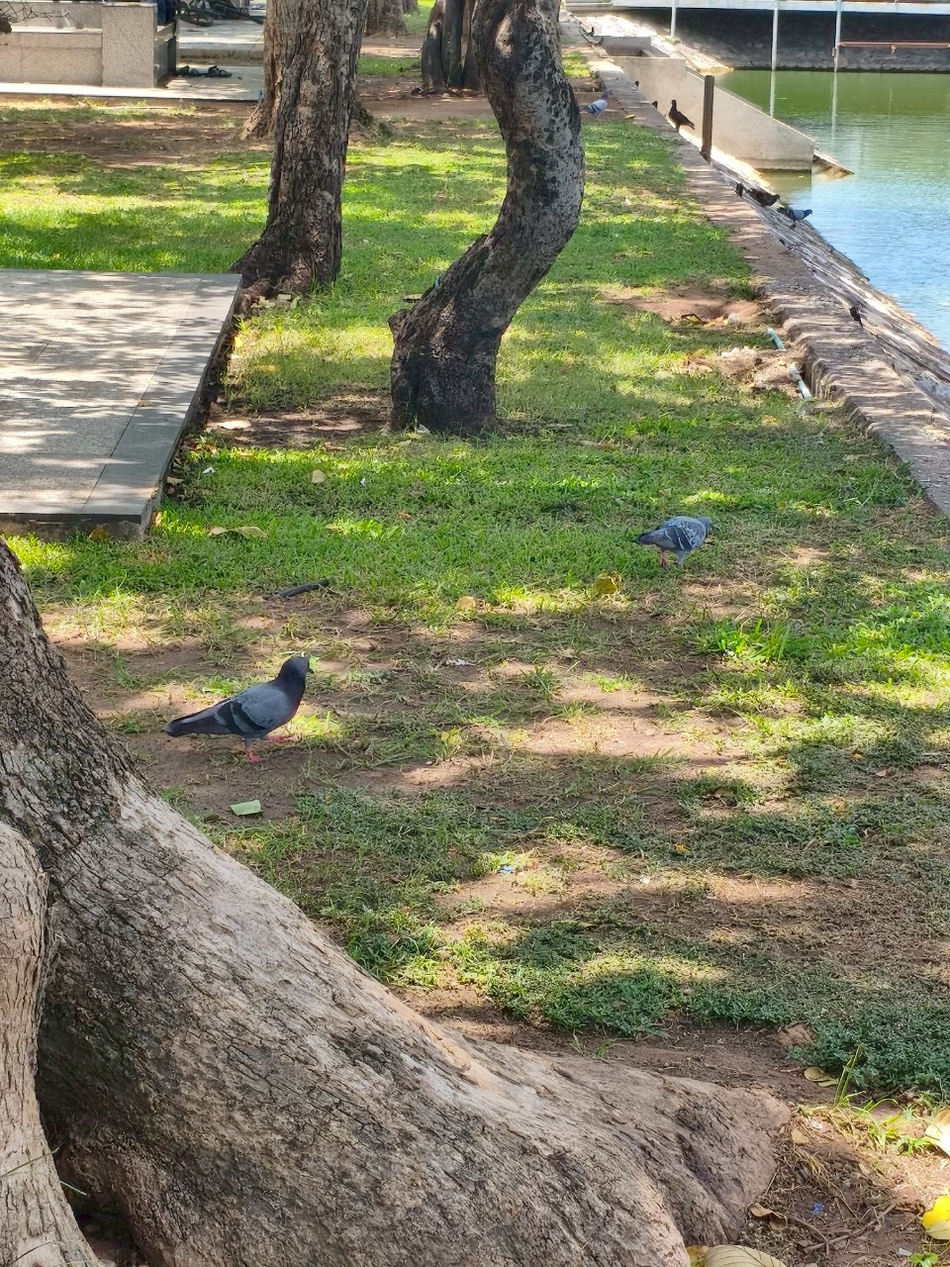Pigeon: (166, 656, 311, 759), (637, 516, 712, 568), (742, 184, 780, 206), (580, 90, 613, 115), (668, 99, 693, 132), (775, 208, 811, 228)
